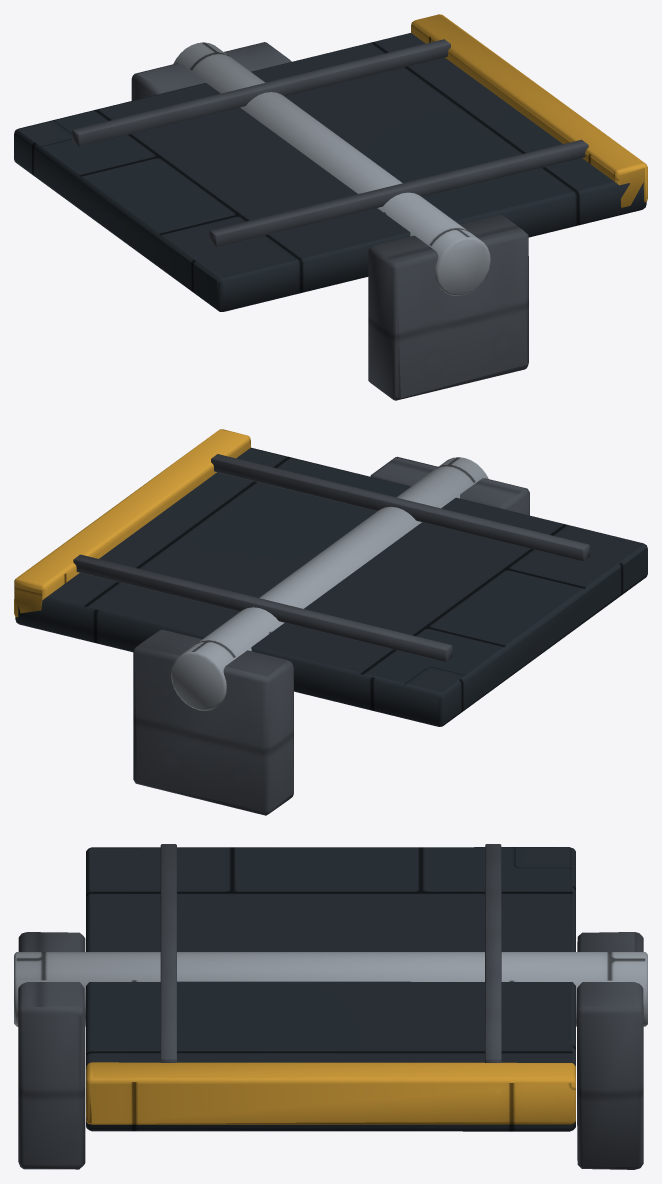
The model's file is ops_hinged_vent_vane_lod1.glb.
The picture shows the model from 3 angles, top to bottom: view 1: azimuth 30°, elevation 25°; view 2: azimuth 150°, elevation 25°; view 3: azimuth 270°, elevation 25°; orthographic projection. The views are drawn at different scales.
Visible parts, largest first — view 1: LOD1_MOTION_VANE_PITCH_Armor, LOD1_Mechanical, LOD1_MOTION_VANE_PITCH_Mechanical, LOD1_MOTION_VANE_PITCH_BrushedMetal, LOD1_MOTION_VANE_PITCH_Livery; view 2: LOD1_MOTION_VANE_PITCH_Armor, LOD1_Mechanical, LOD1_MOTION_VANE_PITCH_Mechanical, LOD1_MOTION_VANE_PITCH_BrushedMetal, LOD1_MOTION_VANE_PITCH_Livery; view 3: LOD1_MOTION_VANE_PITCH_Armor, LOD1_MOTION_VANE_PITCH_Livery, LOD1_Mechanical, LOD1_MOTION_VANE_PITCH_BrushedMetal, LOD1_MOTION_VANE_PITCH_Mechanical.
Boxes of the visible parts, <box> form: LOD1_MOTION_VANE_PITCH_Armor: <box>14,33,646,311</box>; LOD1_Mechanical: <box>131,42,528,400</box>; LOD1_MOTION_VANE_PITCH_Mechanical: <box>72,39,588,246</box>; LOD1_MOTION_VANE_PITCH_BrushedMetal: <box>173,42,490,295</box>; LOD1_MOTION_VANE_PITCH_Livery: <box>411,14,647,207</box>; LOD1_MOTION_VANE_PITCH_Armor: <box>15,447,647,726</box>; LOD1_Mechanical: <box>133,456,529,815</box>; LOD1_MOTION_VANE_PITCH_Mechanical: <box>73,454,589,661</box>; LOD1_MOTION_VANE_PITCH_BrushedMetal: <box>171,457,488,710</box>; LOD1_MOTION_VANE_PITCH_Livery: <box>14,429,250,617</box>; LOD1_MOTION_VANE_PITCH_Armor: <box>86,847,575,1131</box>; LOD1_MOTION_VANE_PITCH_Livery: <box>86,1062,575,1124</box>; LOD1_Mechanical: <box>18,932,643,1169</box>; LOD1_MOTION_VANE_PITCH_BrushedMetal: <box>14,952,647,1026</box>; LOD1_MOTION_VANE_PITCH_Mechanical: <box>160,844,501,1062</box>.
Bounding box in the file's own units: 1.55 × 0.5304 × 1.68.
4 materials, 4 textured.
